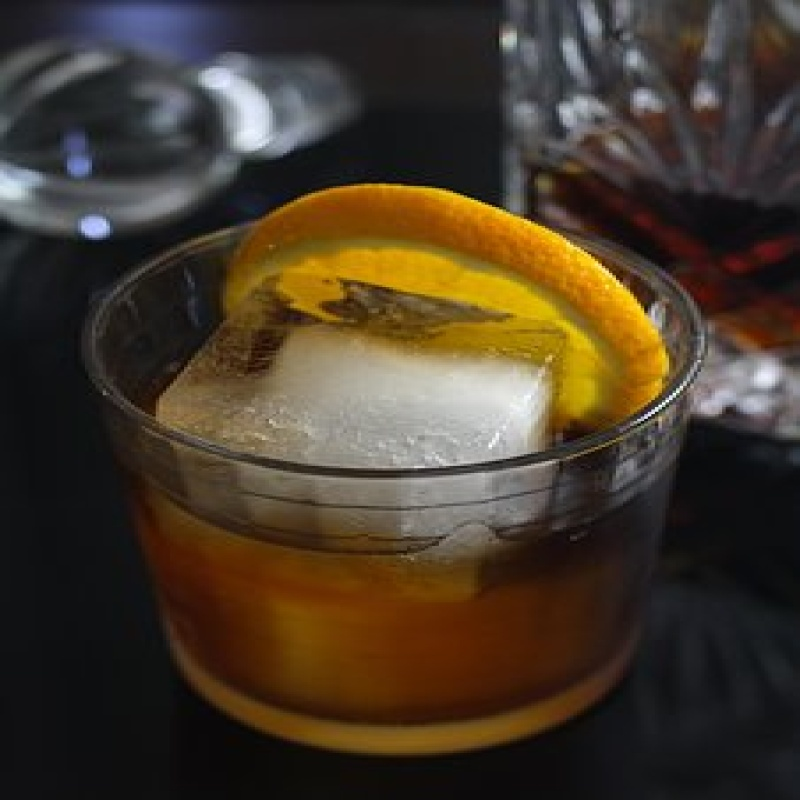whiskey: (78, 203, 719, 747)
